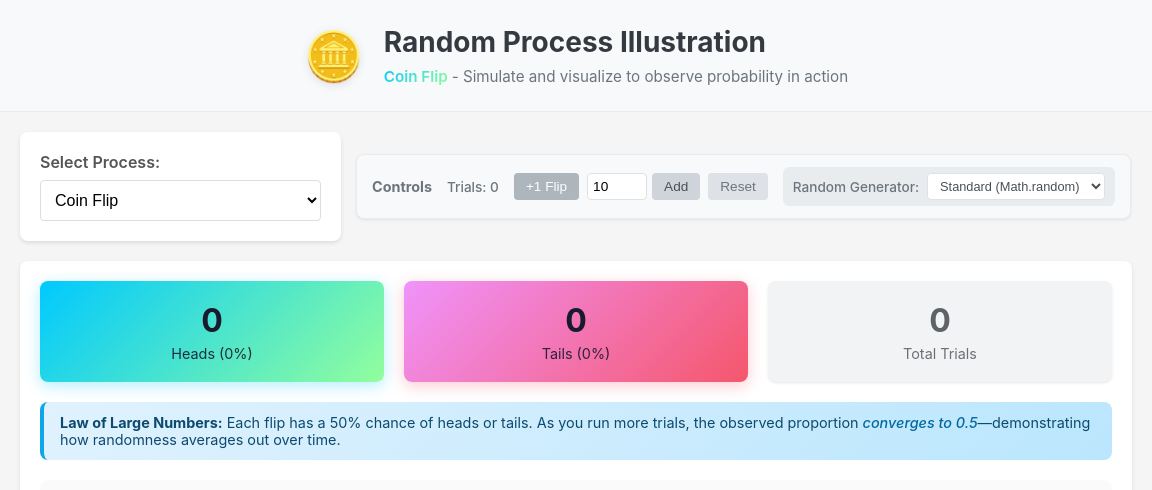
Test: App Component › can switch to dice roll process
The image size is (1152, 490).
Select "Dice Roll" in the dropdown labelled "Select Process:" at (180, 200), box [40,180,321,221]
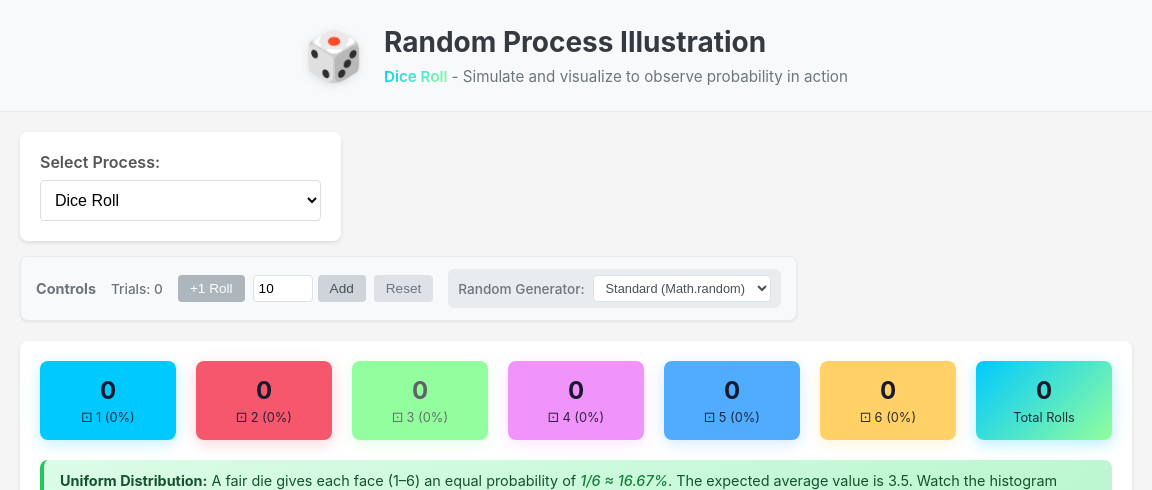
Expected: the button "+1 Roll" is shown, [178,275,245,302]
